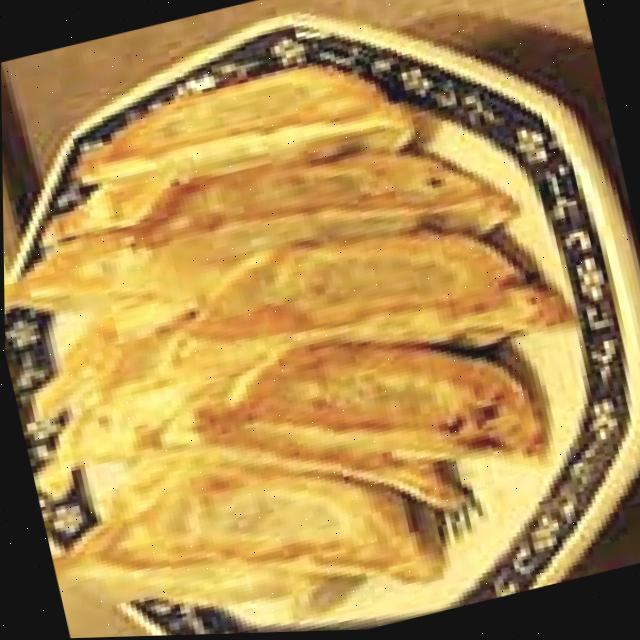带馅早点: (0, 0, 611, 640)
